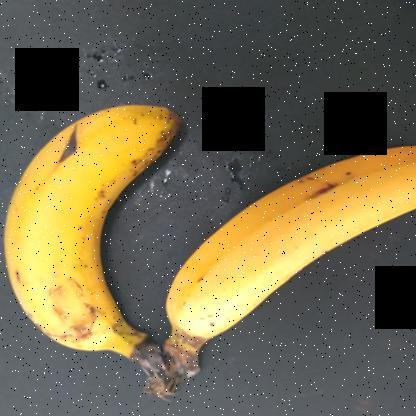freshripe: (165, 133, 415, 359)
ripe: (0, 68, 226, 350)
